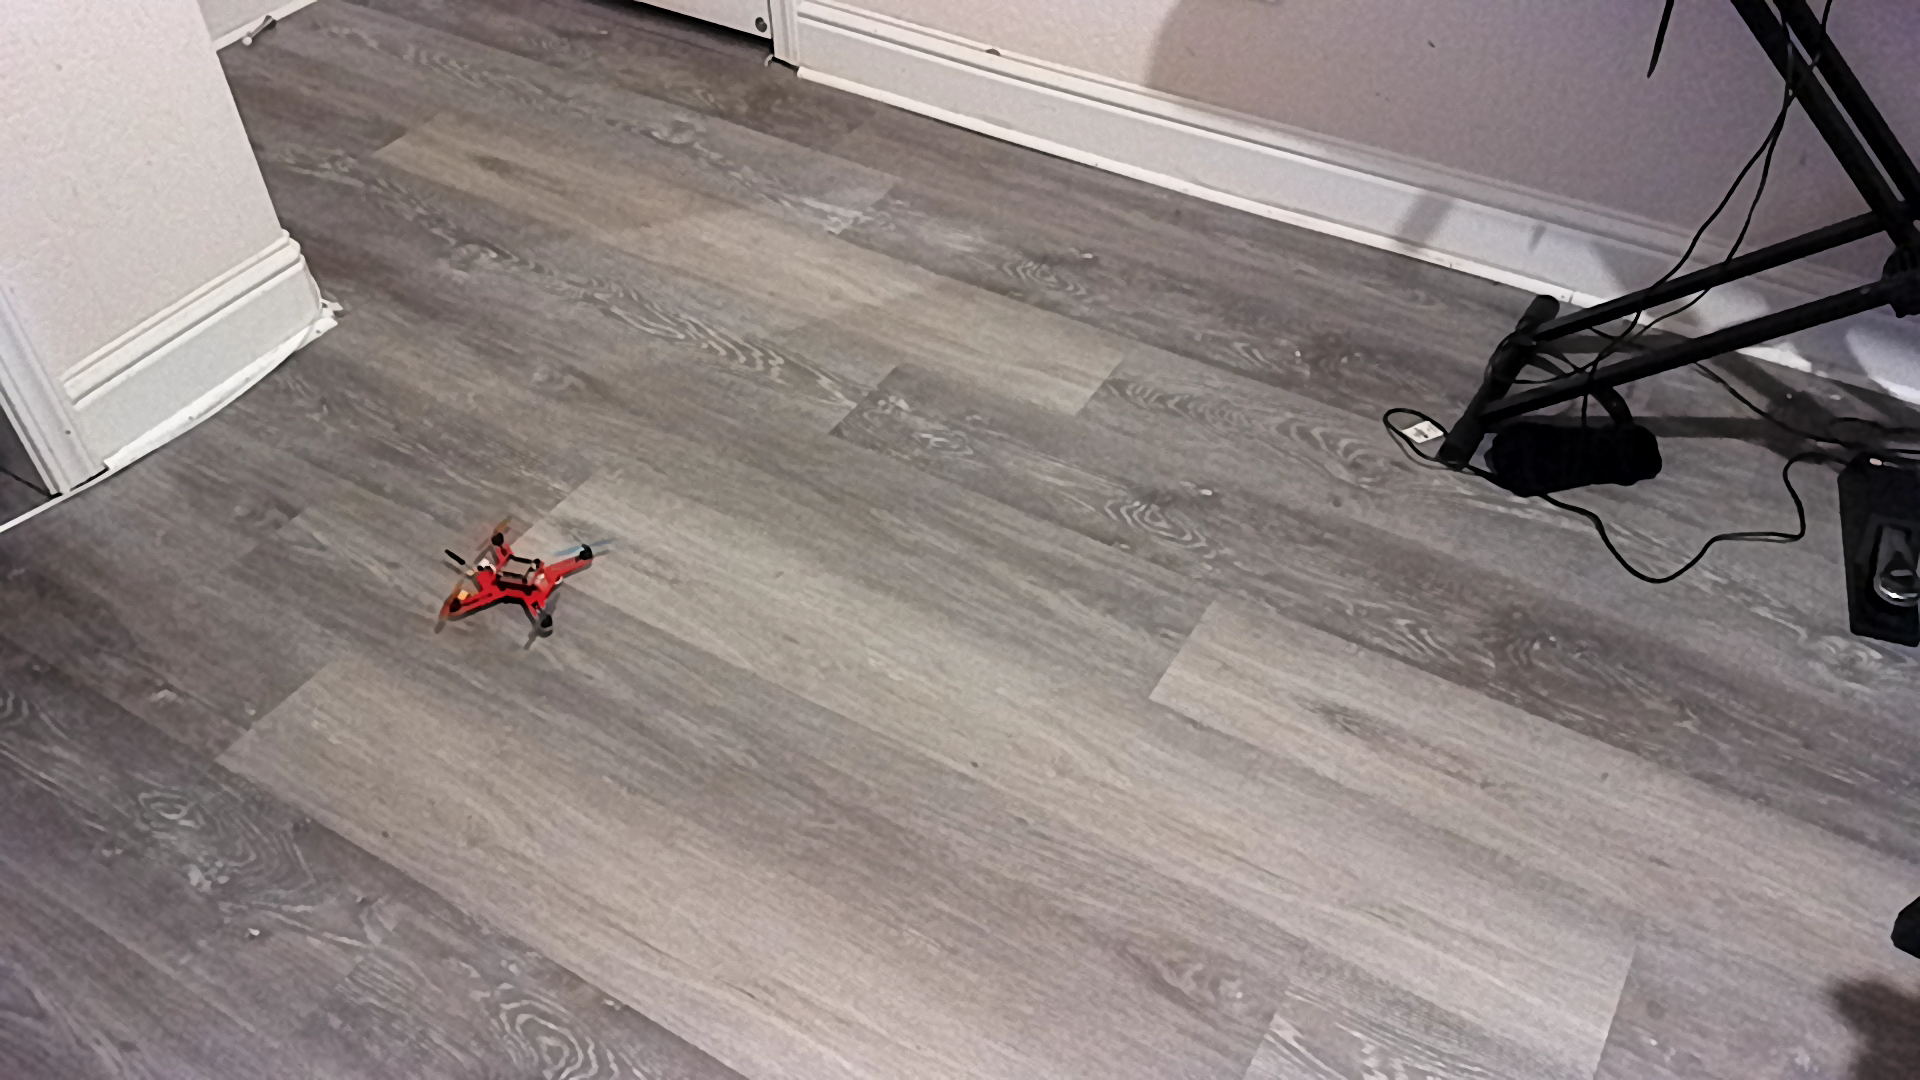drone: (440, 514, 624, 651)
